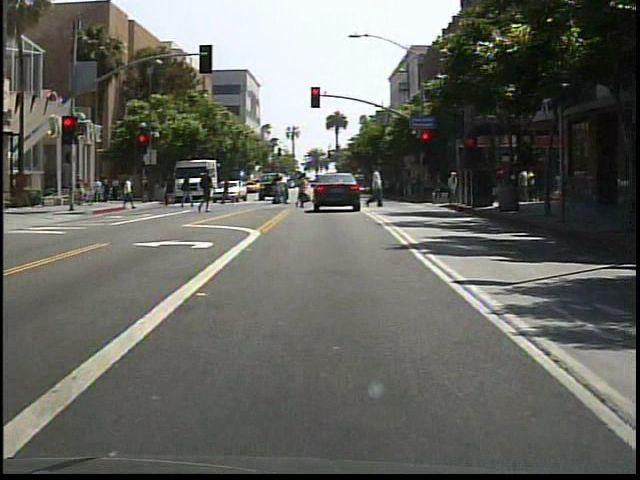person: (364, 162, 391, 214), (199, 168, 220, 217), (296, 172, 315, 210), (122, 174, 139, 213), (182, 173, 199, 211)
